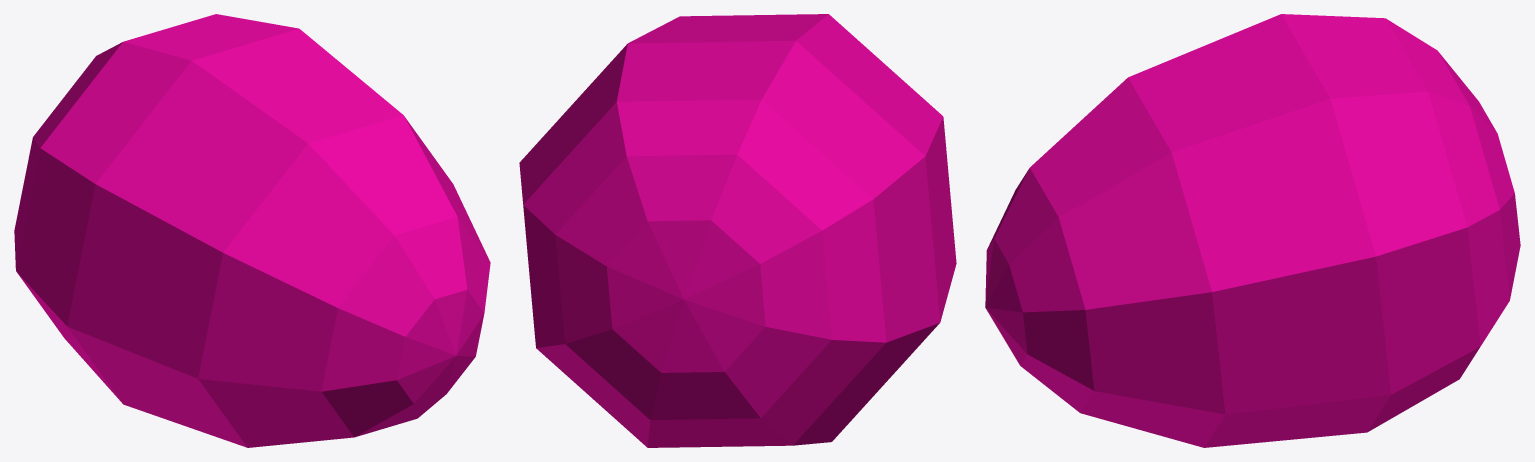
File: Egg_01.fbx
3 renders of one model, left to right at view 1: azimuth 30°, elevation 25°; view 2: azimuth 150°, elevation 25°; view 3: azimuth 270°, elevation 25°, orthographic. The views are drawn at different scales.
Visible parts, largest first — view 1: Egg_01; view 2: Egg_01; view 3: Egg_01.
Boxes of the visible parts, x1,y1,x2,y2 form: Egg_01: [14, 14, 490, 447]; Egg_01: [519, 14, 956, 447]; Egg_01: [985, 14, 1520, 447].
Bounding box in the file's own units: 4.44 × 4.28 × 5.5.
